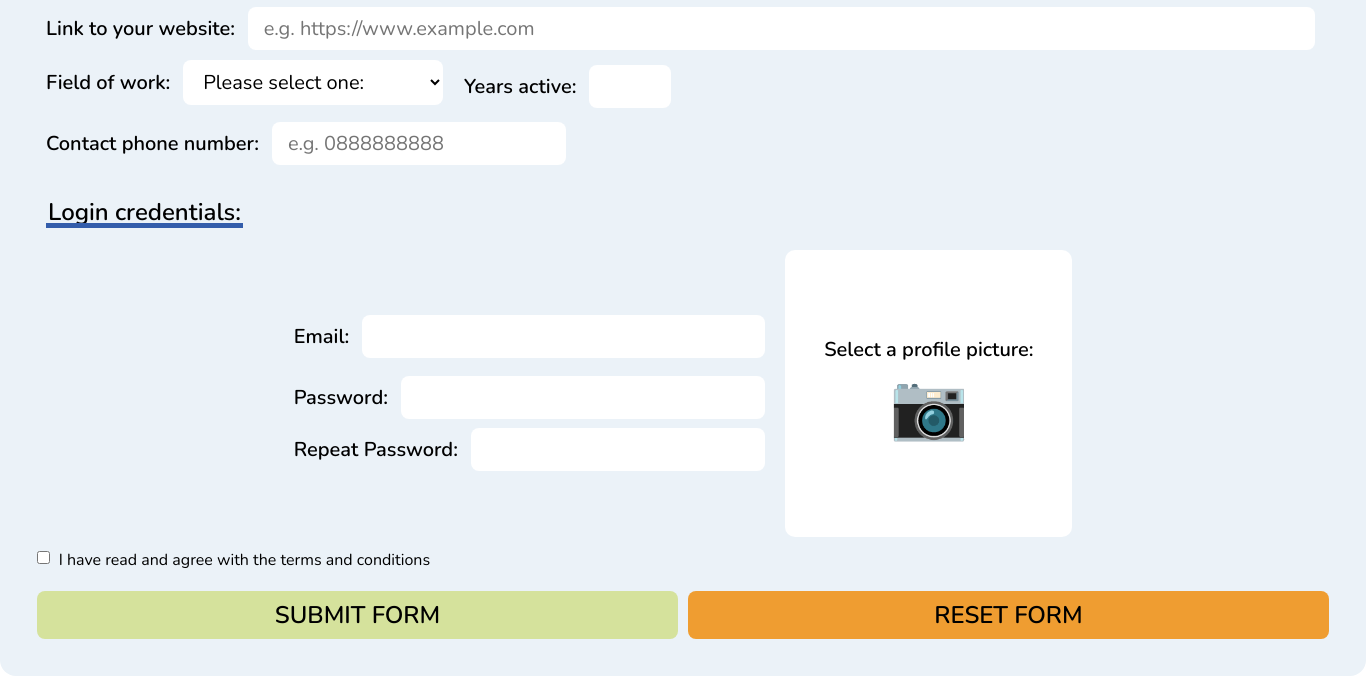
Scenario: renders error messages
The width and height of the screenshot is (1366, 676).
(page scrolled)
Click the button "SUBMIT FORM" at (358, 615), box [37, 591, 678, 639]
(page scrolled)
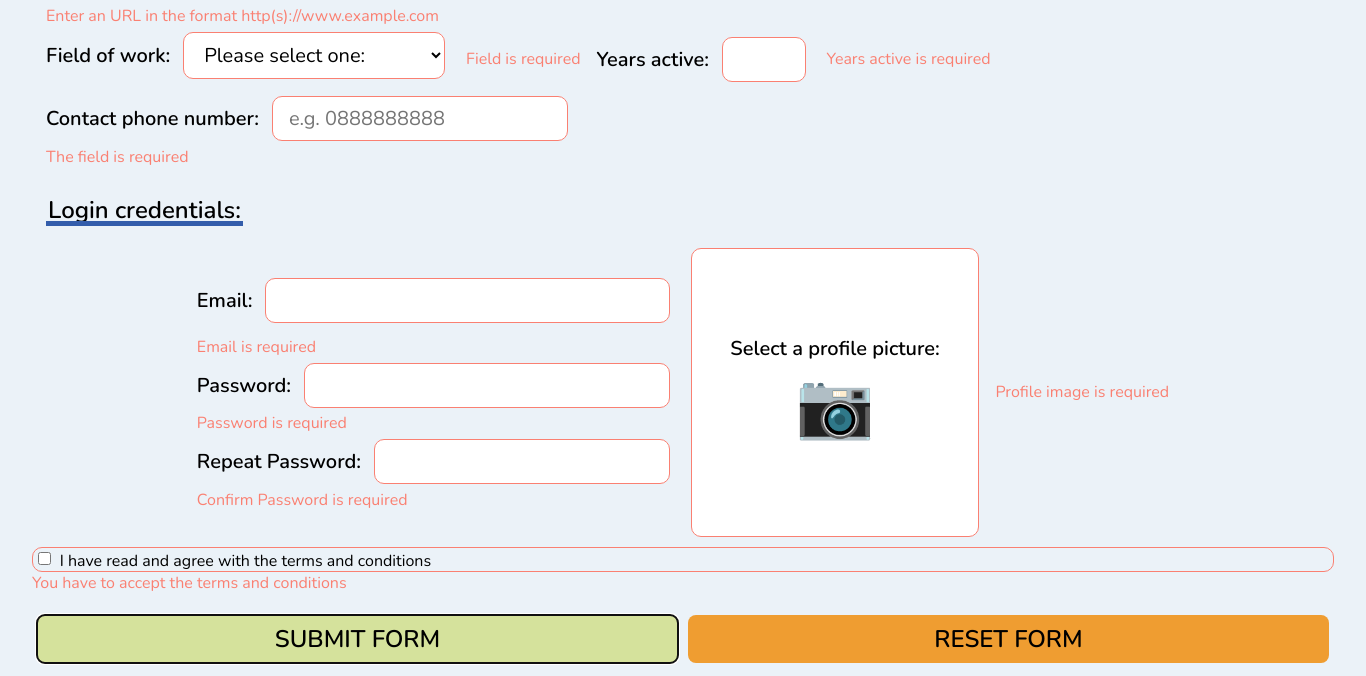
Expected: the text "The field is required" is shown, [46, 146, 188, 168]
